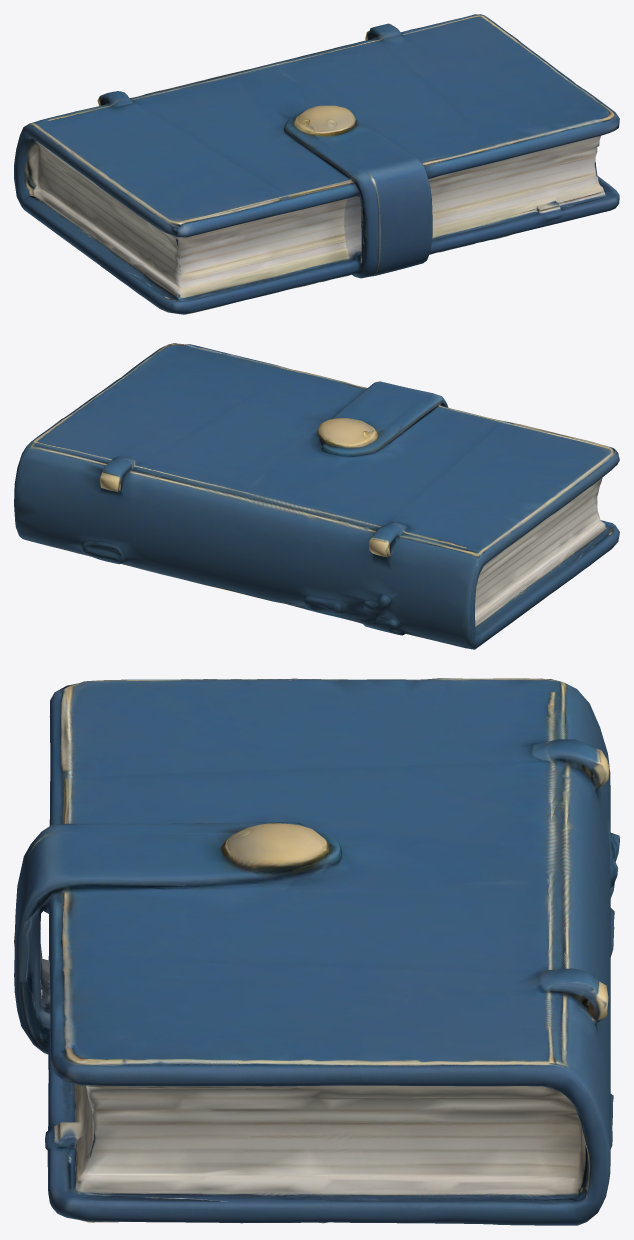
File: caderno.glb
3 views of the same model, one above another, from view 1: azimuth 30°, elevation 25°; view 2: azimuth 150°, elevation 25°; view 3: azimuth 270°, elevation 25° (orthographic). The views are drawn at different scales.
Bounding box in the file's own units: 1.99 × 0.4789 × 1.3.
1 material, 1 textured.
